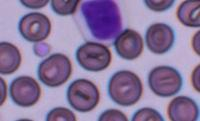L: (74, 0, 127, 44)
